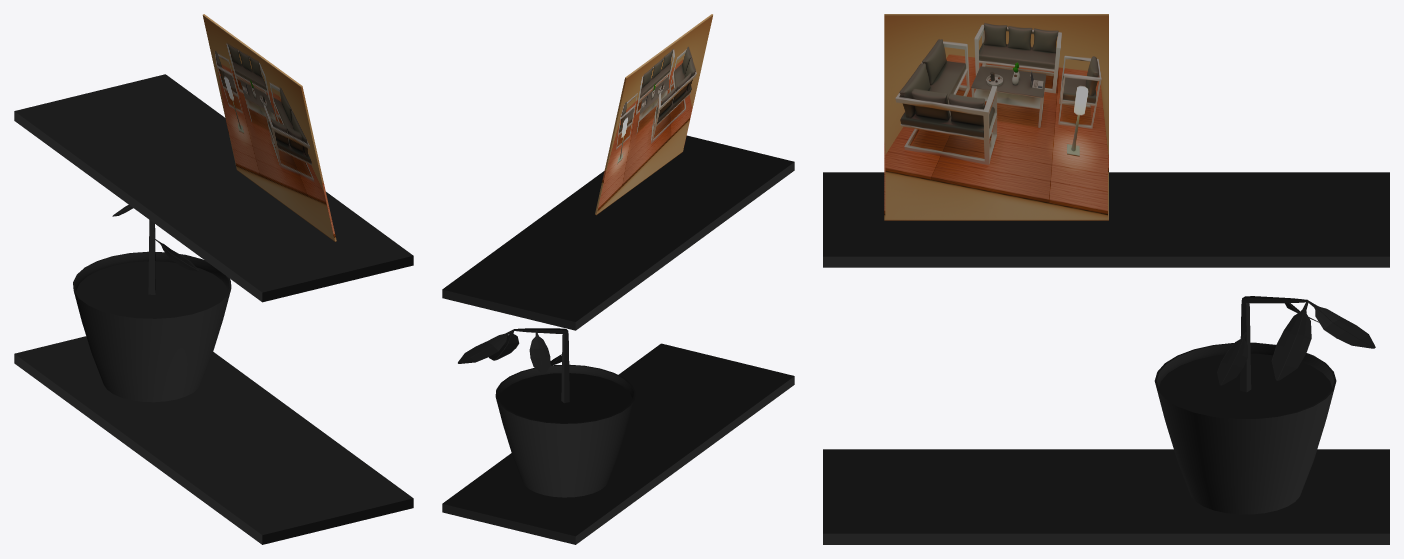
The model's file is polka.obj.
The picture shows the model from 3 angles, left to right: view 1: azimuth 30°, elevation 25°; view 2: azimuth 150°, elevation 25°; view 3: azimuth 270°, elevation 25°; orthographic projection. The views are drawn at different scales.
Visible parts, largest first — view 1: obj4, obj2, obj1, obj3; view 2: obj4, obj2, obj1, obj3; view 3: obj4, obj1, obj2, obj3.
Boxes of the visible parts, x1,y1,x2,y2 form: obj4: [14, 74, 413, 544]; obj2: [73, 251, 231, 402]; obj1: [202, 14, 336, 241]; obj3: [112, 204, 198, 294]; obj4: [442, 135, 794, 544]; obj2: [495, 364, 635, 497]; obj1: [595, 14, 712, 215]; obj3: [458, 328, 569, 402]; obj4: [823, 172, 1389, 544]; obj1: [884, 14, 1108, 220]; obj2: [1154, 342, 1336, 514]; obj3: [1217, 296, 1375, 392].
Size of the model in its own units: 0.4784 by 1.28 by 1.36.
